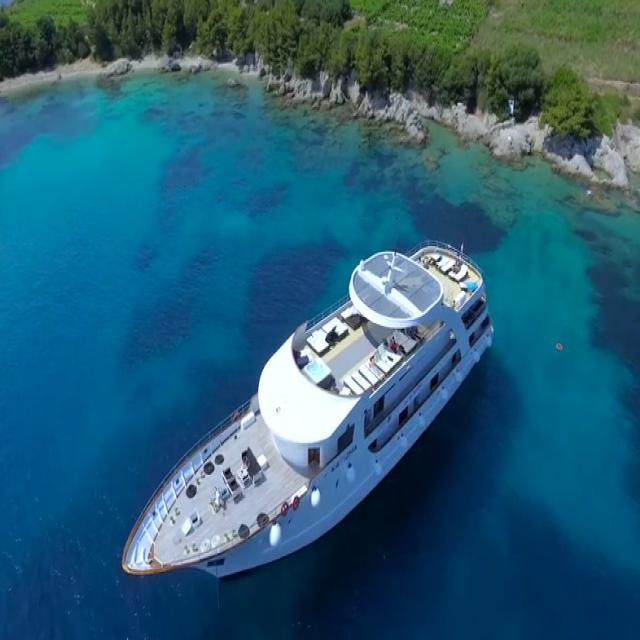passenger ship: (114, 233, 494, 600)
